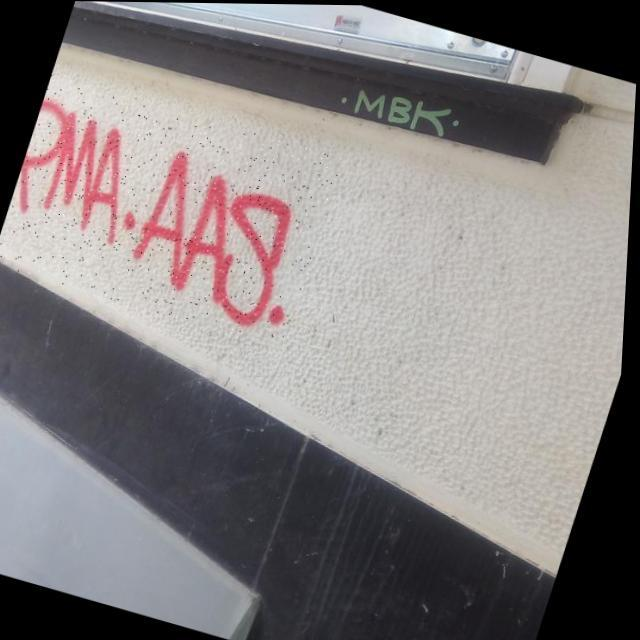-: (0, 74, 347, 347)
